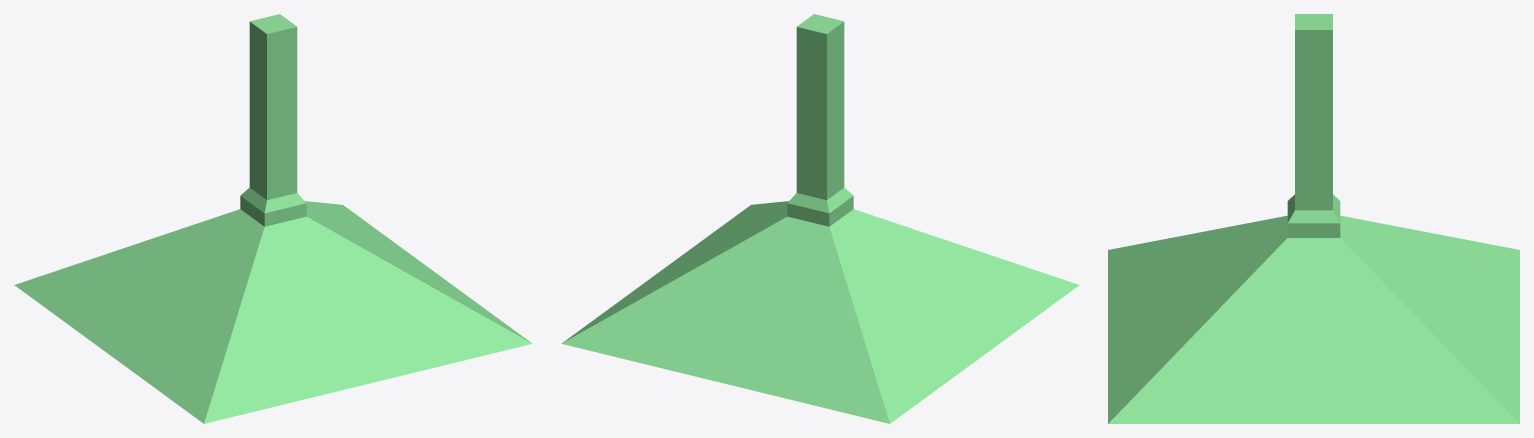
The model's file is light.fbx.
3 renders of one model, left to right at view 1: azimuth 30°, elevation 25°; view 2: azimuth 150°, elevation 25°; view 3: azimuth 270°, elevation 25°, orthographic. The views are drawn at different scales.
Visible parts, largest first — view 1: pCube1; view 2: pCube1; view 3: pCube1.
Boxes of the visible parts, <box> form: pCube1: <box>14,14,532,423</box>; pCube1: <box>561,14,1079,423</box>; pCube1: <box>1108,14,1519,423</box>.
Size of the model in its own units: 4.34 by 3.66 by 4.34.
